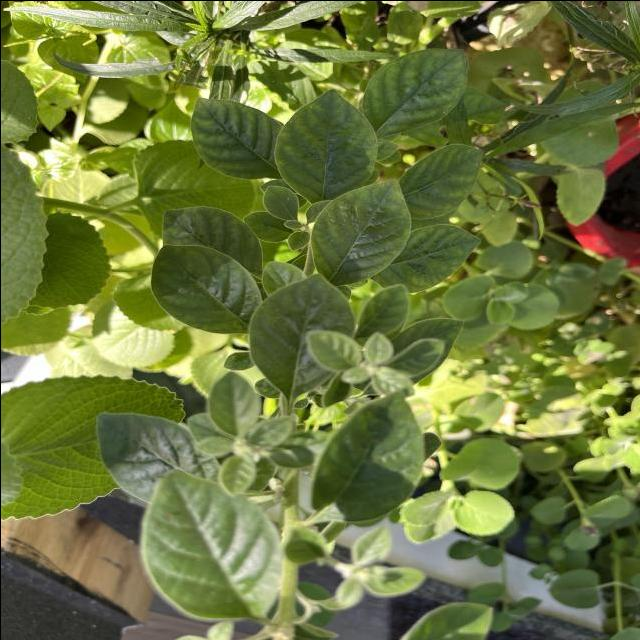Aerva lanata: (270, 86, 380, 206), (307, 177, 412, 287), (146, 242, 262, 334), (360, 45, 470, 138), (372, 222, 482, 296), (188, 95, 283, 180), (394, 142, 486, 220)
